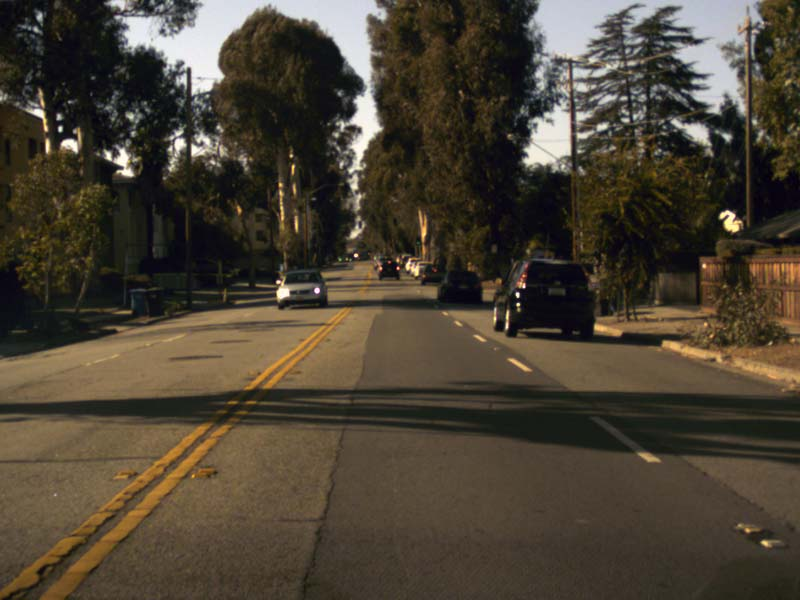Green: (415, 236, 420, 245), (393, 218, 396, 226)
